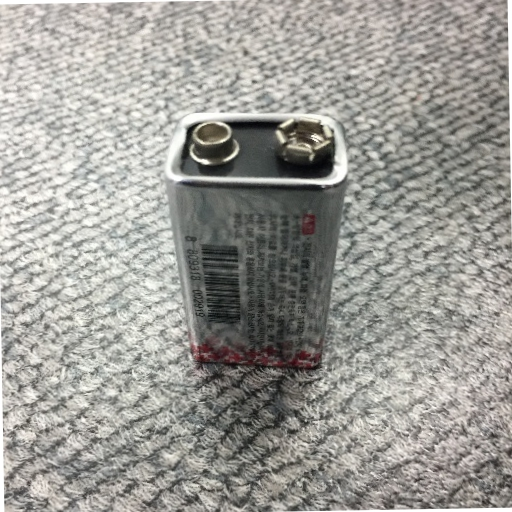Battery_3: (149, 97, 362, 391)
